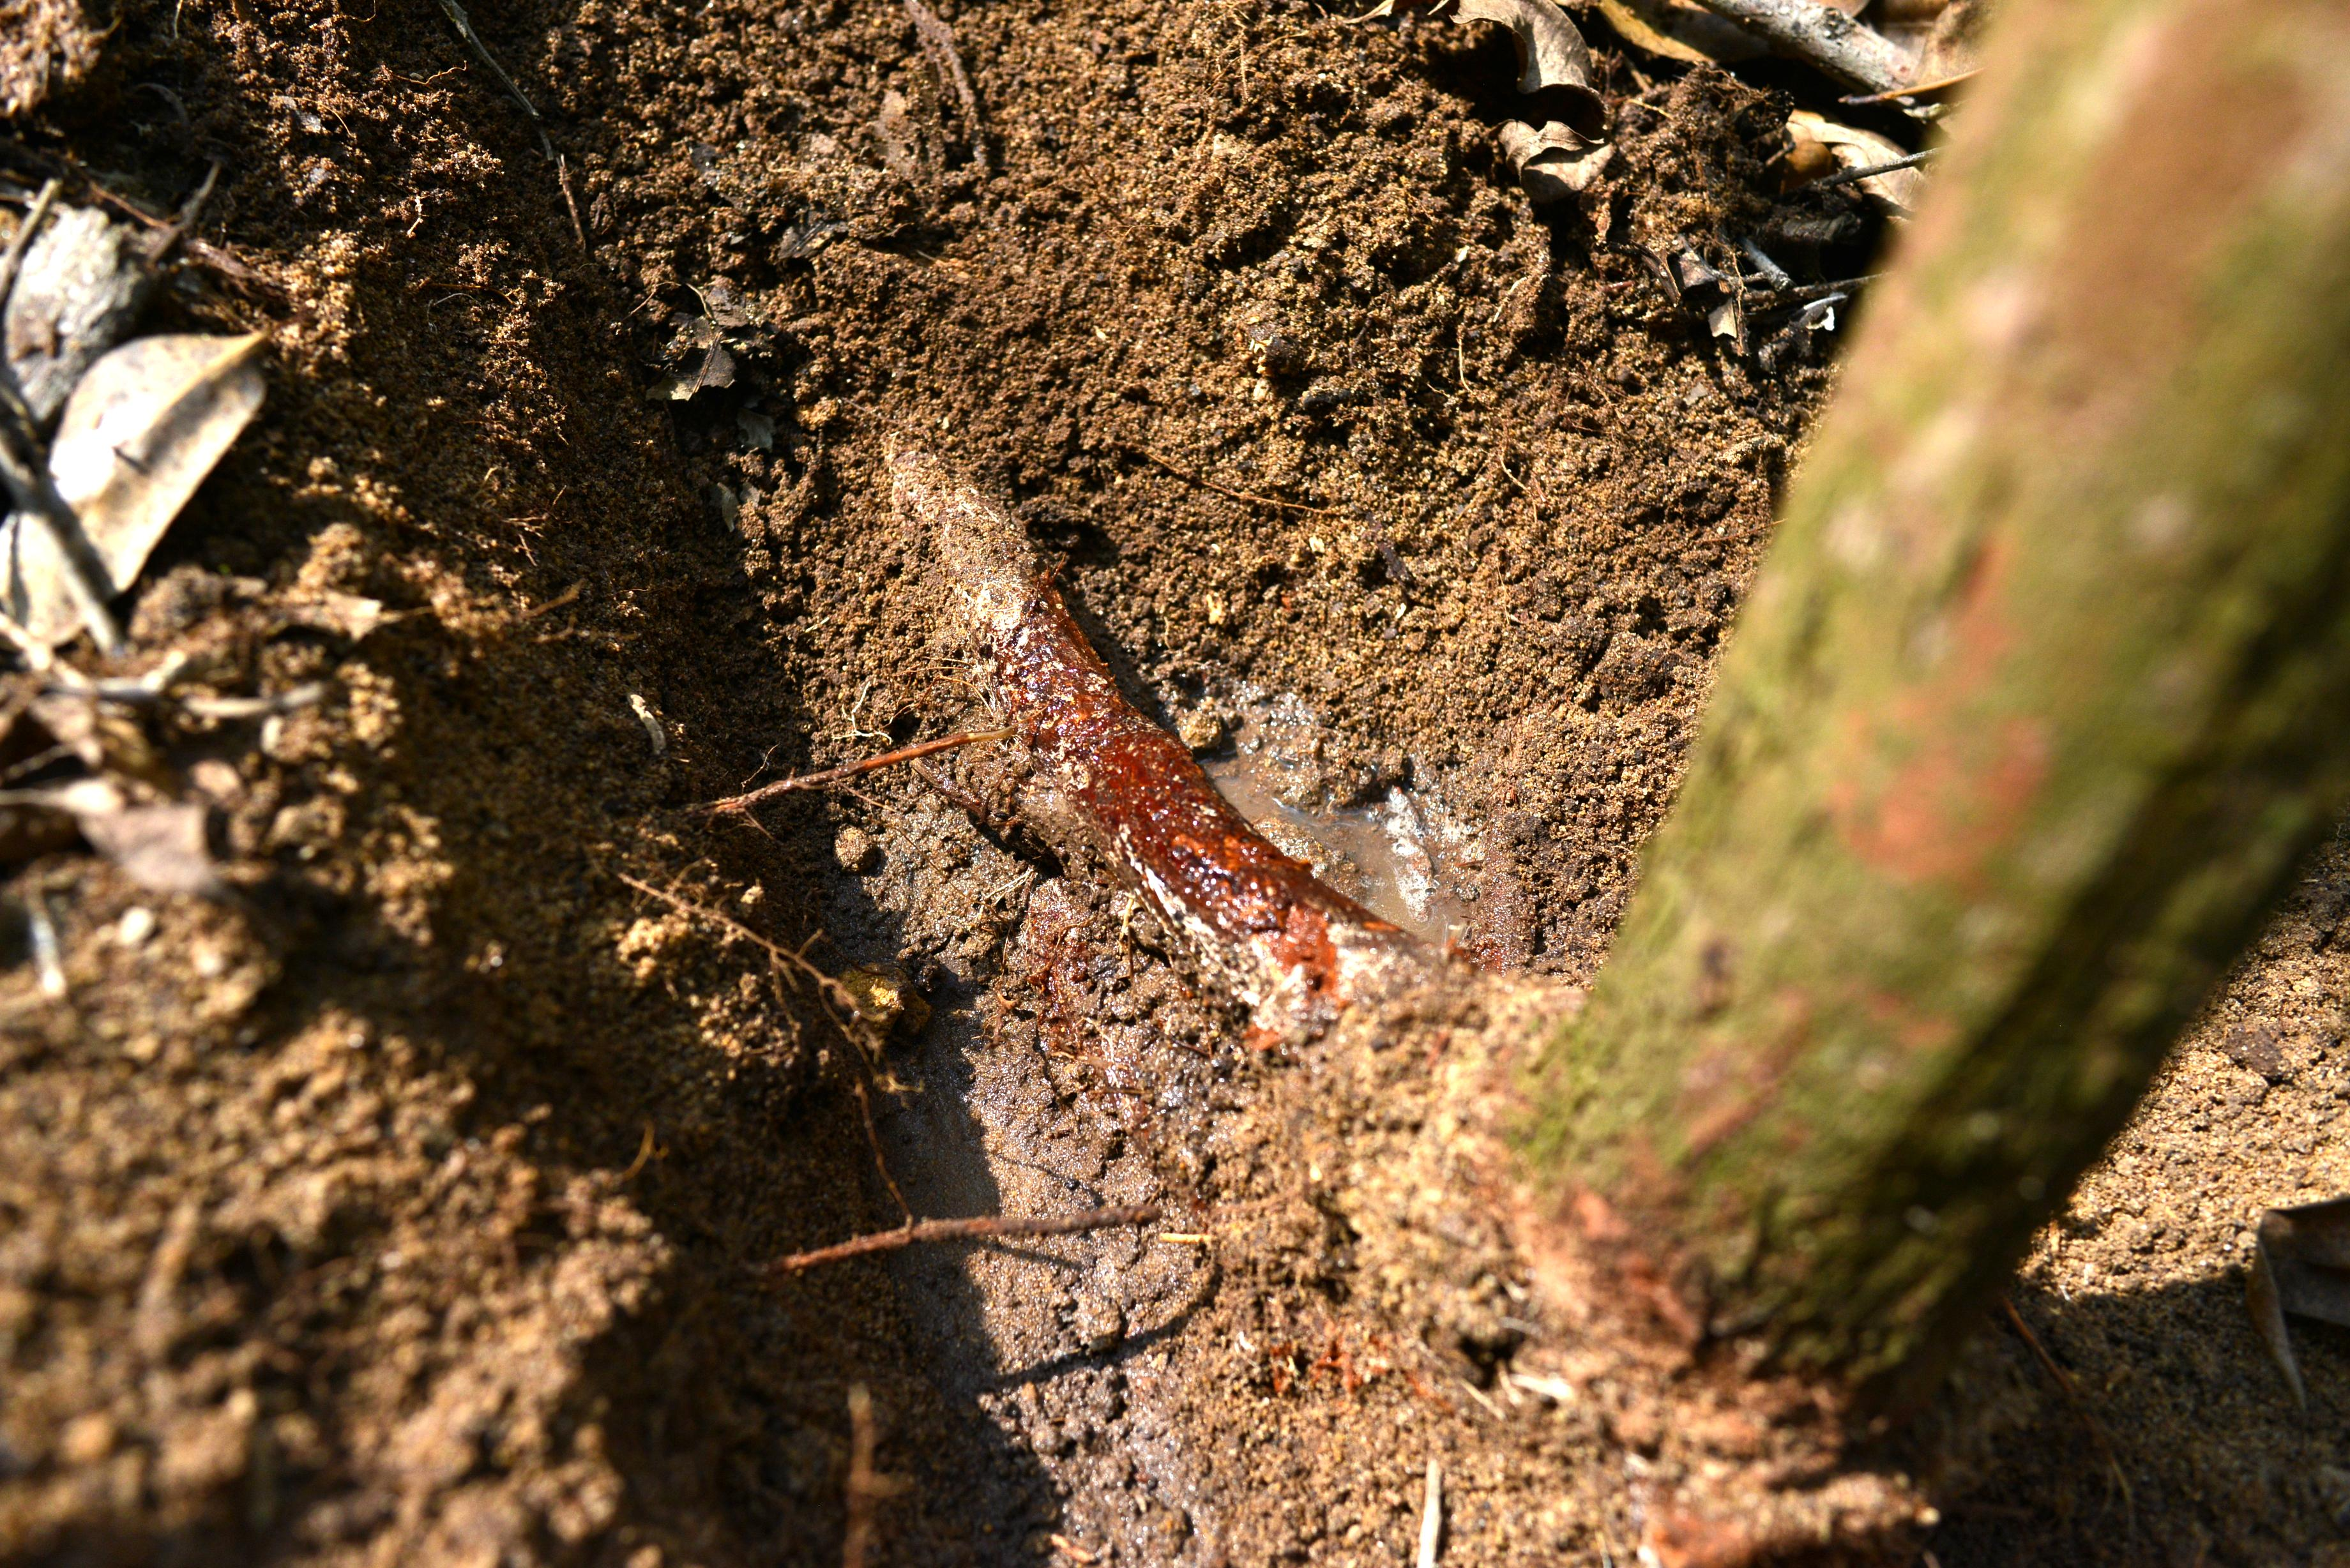Ganoderma - Mycelium: (1143, 868, 1258, 1018), (866, 432, 996, 539), (950, 583, 1032, 637), (952, 553, 973, 577)
Red Root Rot - Secretion: (1001, 633, 1342, 994)
